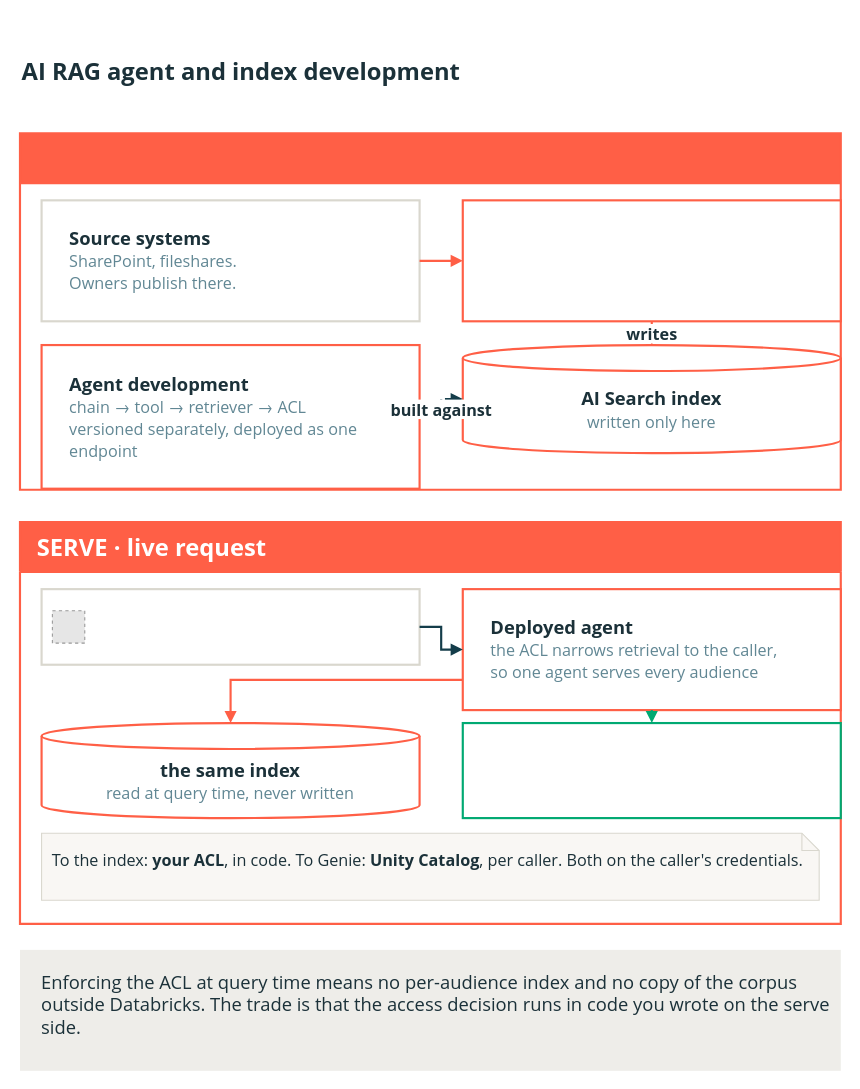
The diagram is 860 pixels wide and 1089 high, and some of its shapes have lost their labels. Grey dashed boxes stand in for pictures. The box of each missing label's shape, as (x1, y1, x2, y2) in pixels:
BUILD · batch, scheduled: (18, 132, 841, 490)
Genie Agent SQL over governed tables. Unity Catalog evaluates the caller.: (461, 721, 841, 819)
Preprocessing raw → bronze → silver → gold parse, chunk, enrich, embed: (461, 199, 841, 322)
User interface a web UI, Teams, …: (40, 588, 420, 665)
